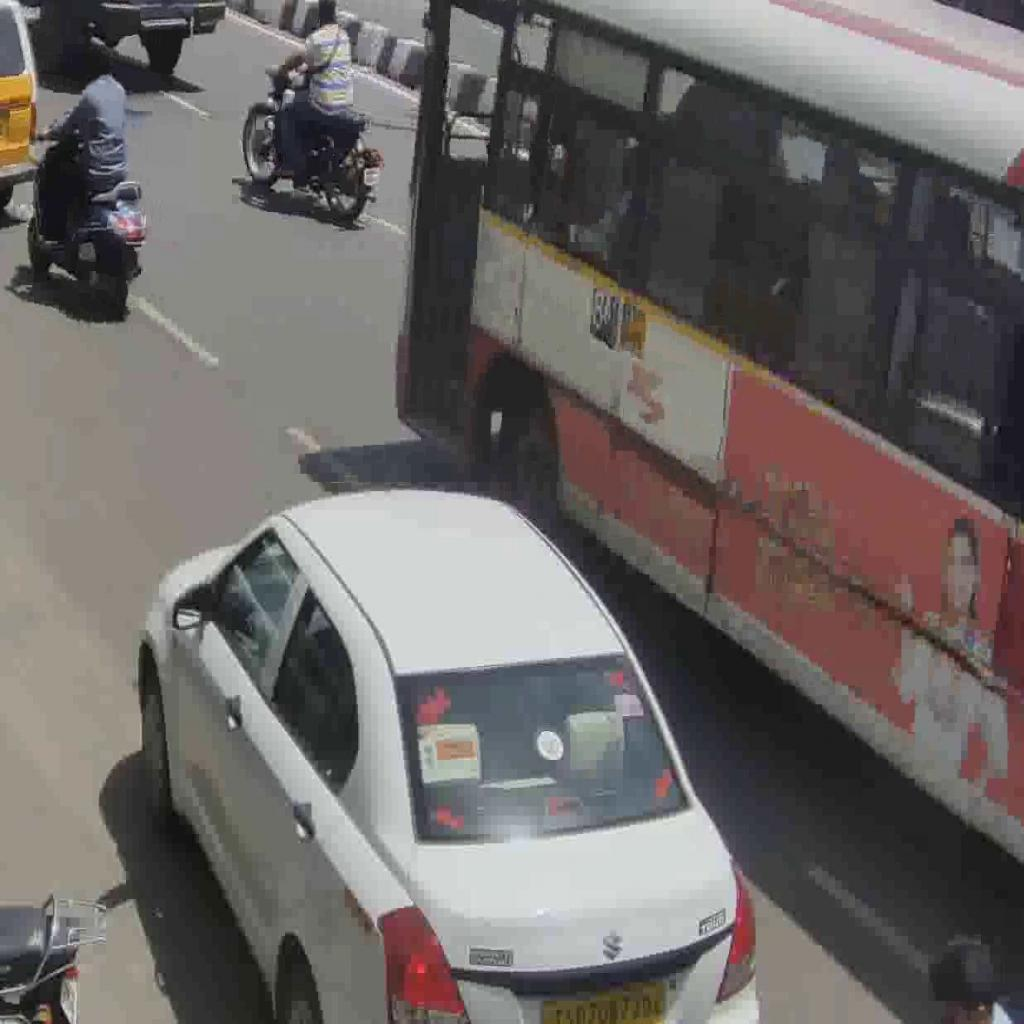helmet: (25, 112, 147, 310), (240, 62, 386, 224)
